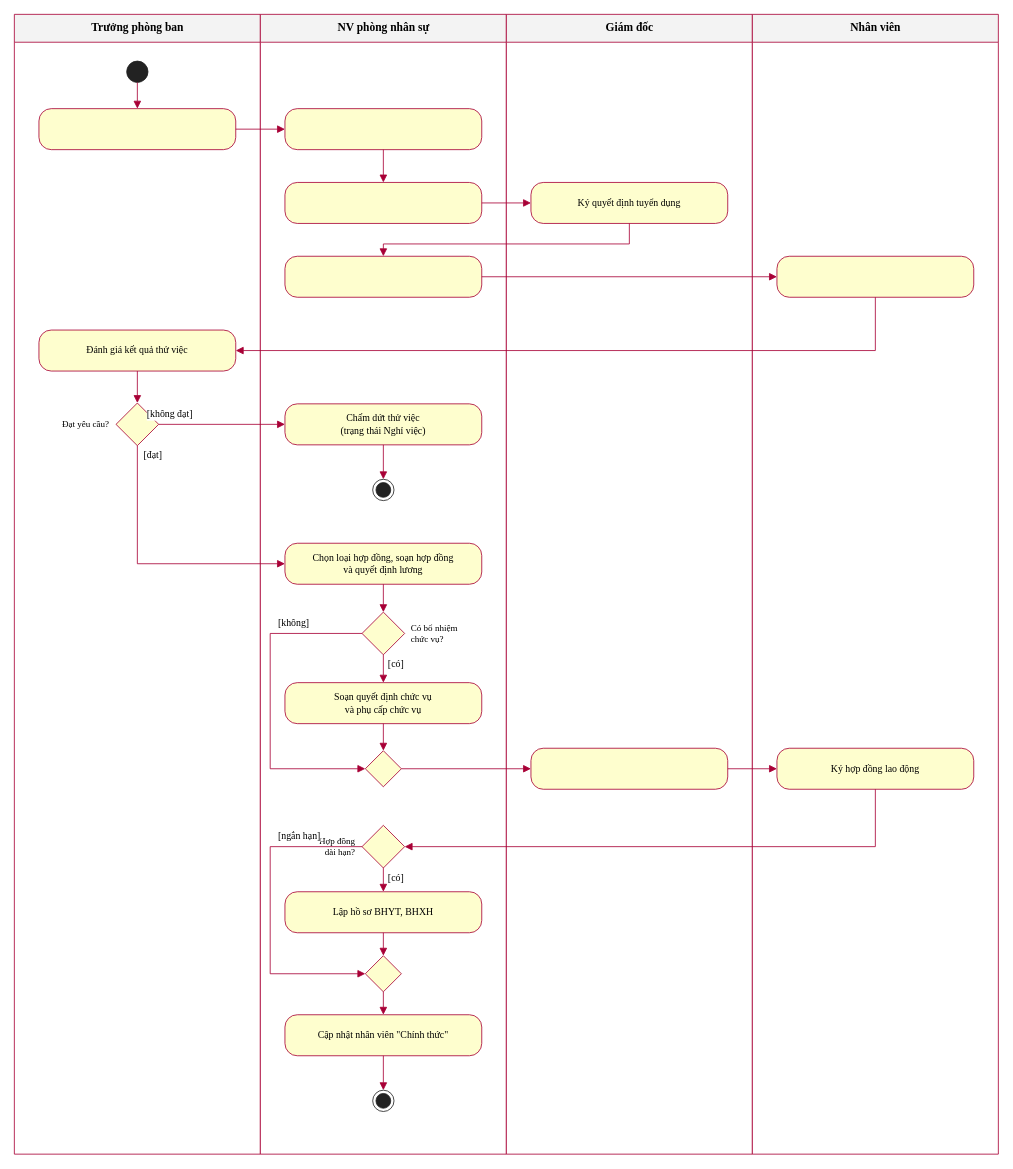
Some shapes in this 1013 by 1169 pixel diagram are drawn without their labels. The shapes that lost their labels are listed below. From the top down, each one's centre as x and y in pixels, then its label:
[137,129]: Đề xuất nhu cầu tuyển dụng
[383,129]: Tiếp nhận ứng viên trúng tuyển
[383,202]: Soạn QĐ tuyển dụng: phòng ban, thời gian và lương thử việc, điều khoản hai bên
[383,276]: Lập hồ sơ nhân viên (Thử việc), giảm nhu cầu tuyển của phòng
[875,276]: Thử việc tại phòng ban
[629,768]: Ký hợp đồng và các quyết định
